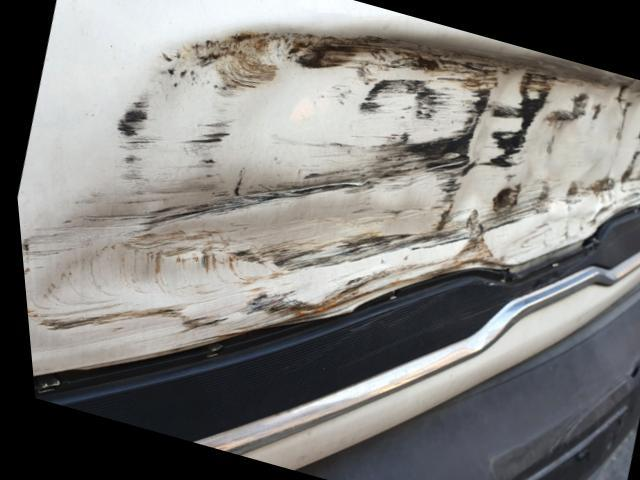crack: (620, 350, 640, 380)
scratch: (18, 25, 640, 345)
